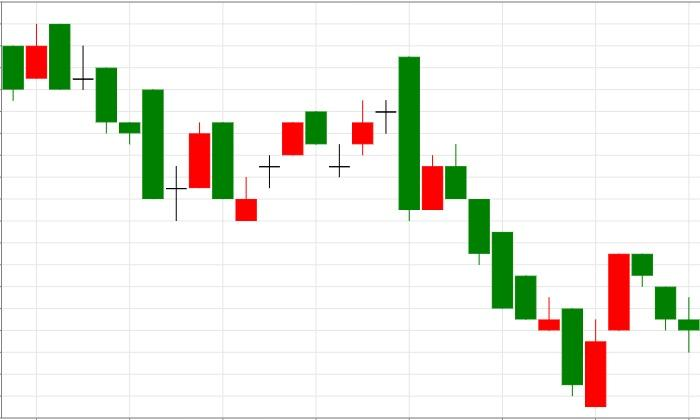morning_star_rise: (48, 23, 210, 221)
